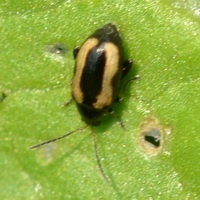insect: (65, 23, 132, 125)
